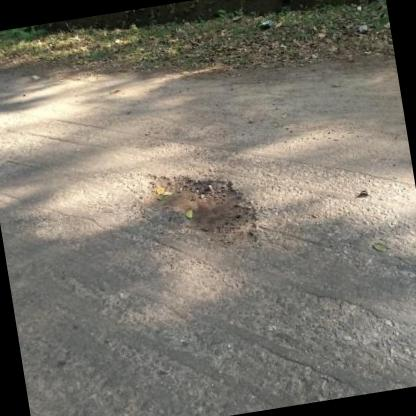pothole: (134, 154, 266, 262)
